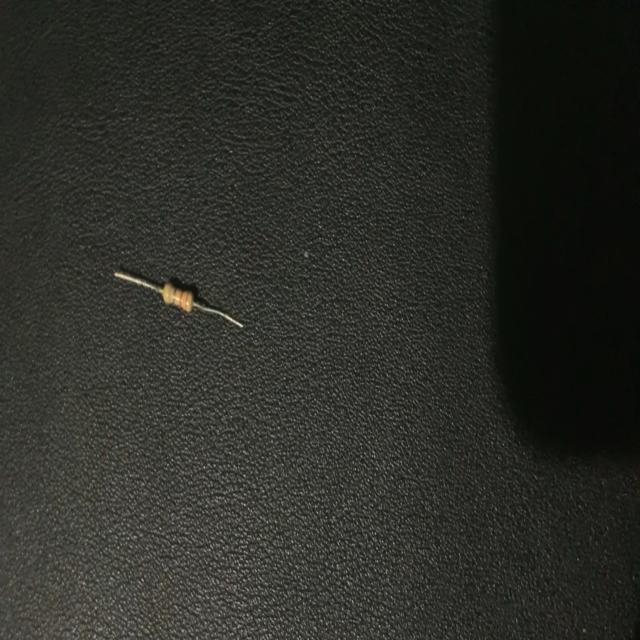resistor: (114, 262, 244, 334)
